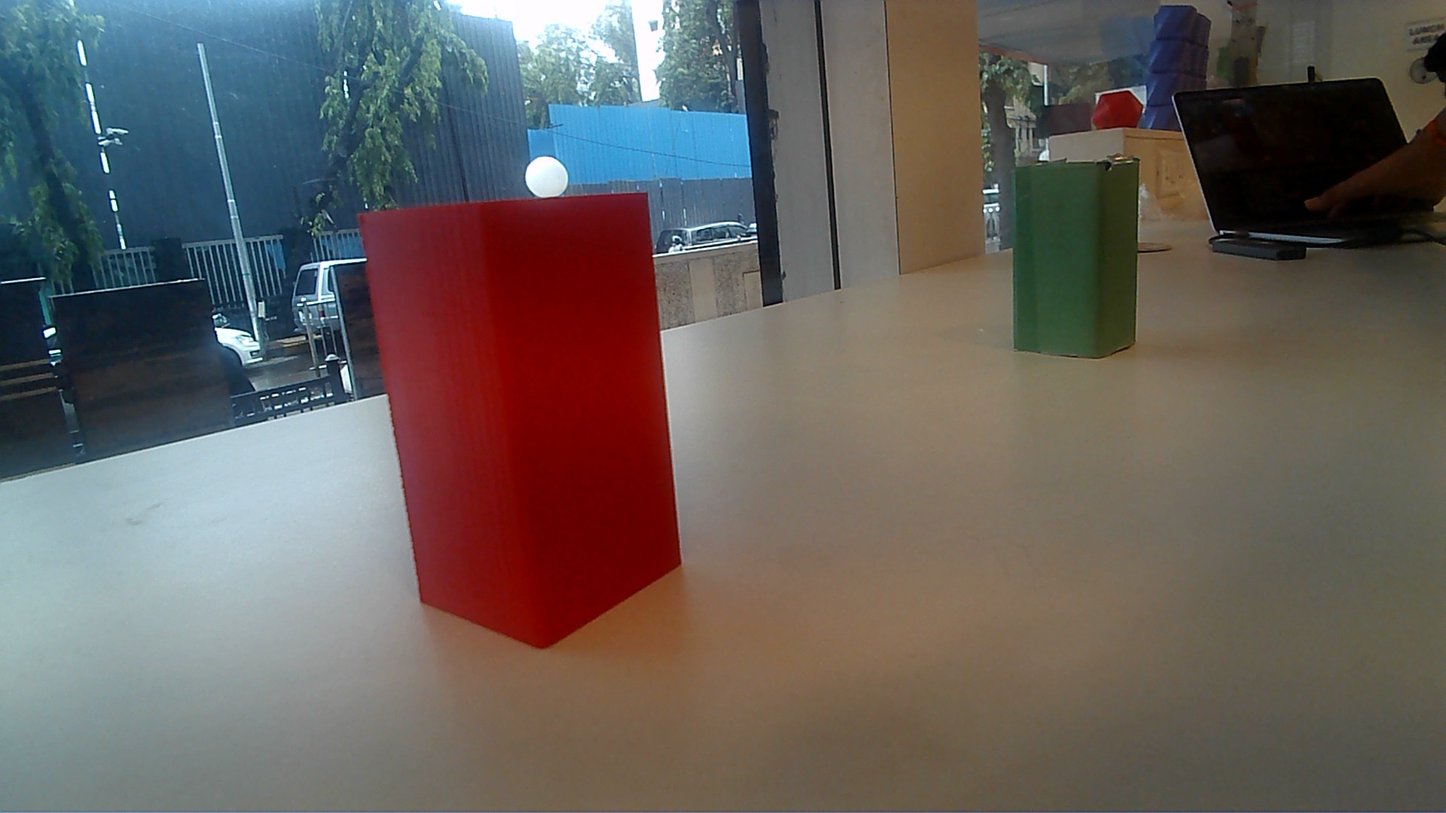red: (380, 127, 689, 658)
